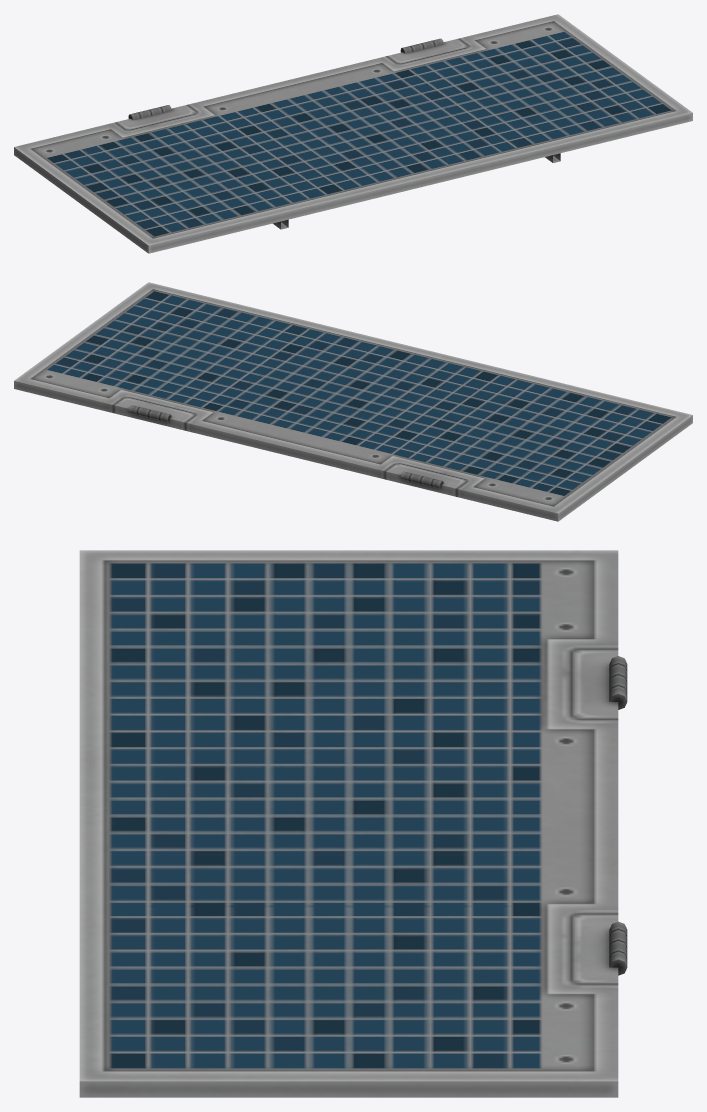
The model's file is Ara_Solar_1_1.obj.
3 renders of one model, top to bottom at view 1: azimuth 30°, elevation 25°; view 2: azimuth 150°, elevation 25°; view 3: azimuth 270°, elevation 25°, orthographic. The views are drawn at different scales.
Visible parts, largest first — view 1: Ara_Solar_1_1; view 2: Ara_Solar_1_1; view 3: Ara_Solar_1_1.
Boxes of the visible parts, x1,y1,x2,y2 form: Ara_Solar_1_1: [14, 14, 692, 253]; Ara_Solar_1_1: [14, 282, 692, 521]; Ara_Solar_1_1: [79, 550, 627, 1097].
Bounding box in the file's own units: 1.75 × 0.0625 × 0.7625.
